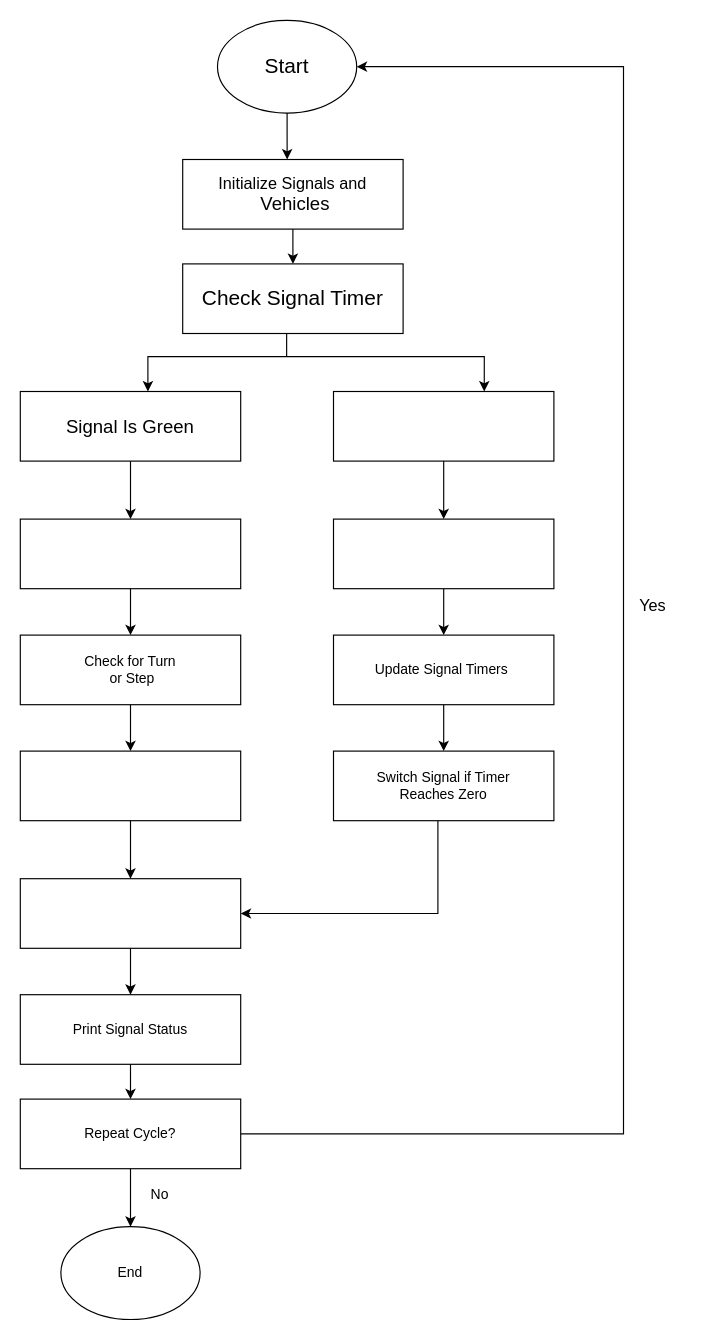
This 702x1340 diagram has some shape labels left out. The centre of each missing label's shape, as x and y in pixels:
Adjust Vehicle Position: the point at 130,785
Move Vehicles Forward: the point at 130,553
Signal is Yellow/Red: the point at 443,425
Update Vehicle Status: the point at 130,913
Vehicles Stop: the point at 443,553
